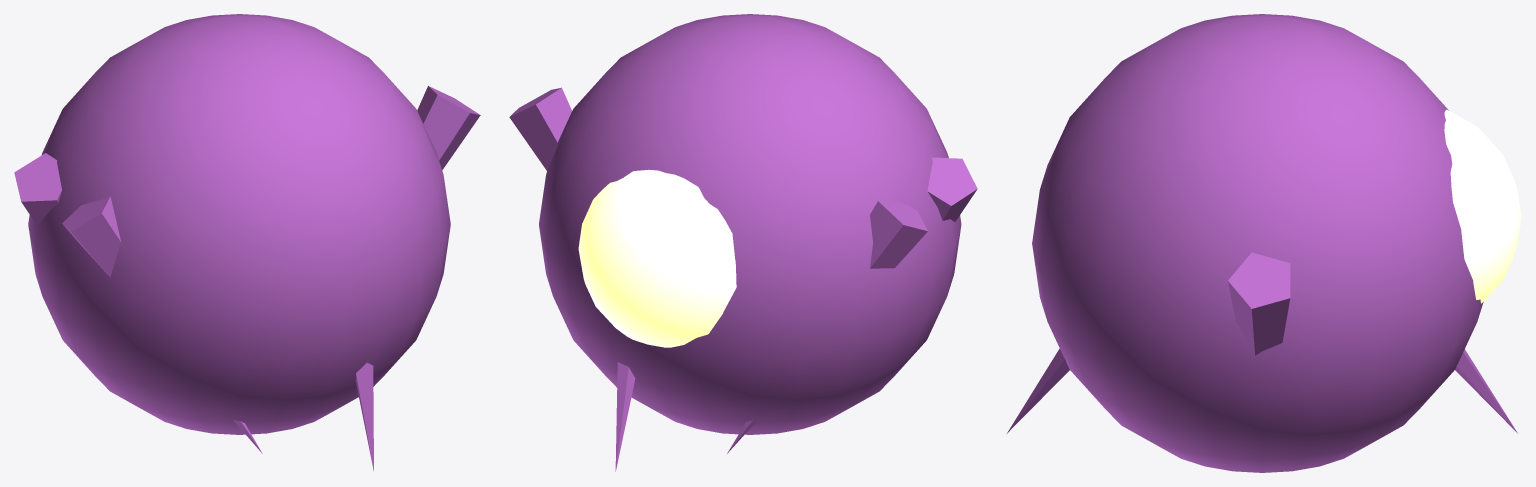
The model's file is enemy_sporeling.glb.
The picture shows the model from 3 angles, left to right: view 1: azimuth 30°, elevation 25°; view 2: azimuth 150°, elevation 25°; view 3: azimuth 270°, elevation 25°; orthographic projection. The views are drawn at different scales.
Parts seen in each view (by area): view 1: Torso, Frond3, Frond0, Frond2, Frond4; view 2: Torso, Core, Frond2, Frond0, Frond3, Frond1; view 3: Torso, Core, Frond0, Frond4, Frond1.
Boxes of the visible parts, x1,y1,x2,y2 form: Torso: (28, 14, 450, 434); Frond3: (62, 196, 262, 453); Frond0: (417, 86, 480, 170); Frond2: (14, 153, 61, 225); Frond4: (355, 362, 373, 471); Torso: (539, 14, 961, 434); Core: (578, 169, 736, 347); Frond2: (727, 197, 927, 453); Frond0: (509, 87, 571, 170); Frond3: (927, 157, 977, 221); Frond1: (615, 362, 635, 471); Torso: (1032, 14, 1483, 472); Core: (1444, 109, 1521, 303); Frond0: (1228, 252, 1290, 355); Frond4: (1007, 348, 1069, 433); Frond1: (1455, 349, 1517, 433).
Size of the model in its own units: 0.9496 by 0.8 by 0.8946.
